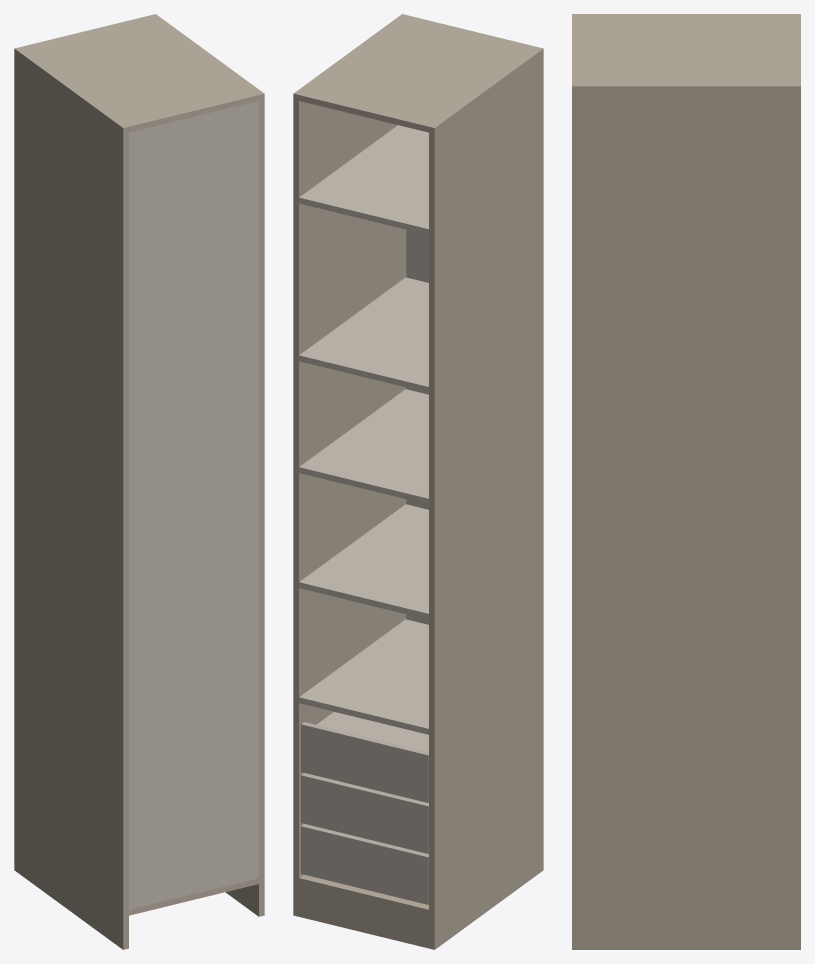
3 views of the same model, side by side, from view 1: azimuth 30°, elevation 25°; view 2: azimuth 150°, elevation 25°; view 3: azimuth 270°, elevation 25° (orthographic). The views are drawn at different scales.
Parts seen in each view (by area): view 1: 004_ARKALIK, 000_GOVDE_SOL, 002_GOVDE_UST, 001_GOVDE_SAG, 003_GOVDE_ALT; view 2: 000_GOVDE_SOL, 001_GOVDE_SAG, 002_GOVDE_UST, 008_RAF_3, 007_RAF_2, 006_RAF_1, 009_RAF_4, 010_RAF_5, 011_CEKMECE_ON_1, 013_CEKMECE_ON_2, 015_CEKMECE_ON_3, 005_BAZA (+3 smaller); view 3: 001_GOVDE_SAG, 002_GOVDE_UST, 000_GOVDE_SOL.
Part boxes in pixels (<box>): 004_ARKALIK: <box>129,101,258,909</box>; 000_GOVDE_SOL: <box>14,47,128,949</box>; 002_GOVDE_UST: <box>20,15,258,132</box>; 001_GOVDE_SAG: <box>150,14,264,916</box>; 003_GOVDE_ALT: <box>129,878,258,915</box>; 000_GOVDE_SOL: <box>429,47,543,949</box>; 001_GOVDE_SAG: <box>293,14,407,916</box>; 002_GOVDE_UST: <box>299,15,537,132</box>; 008_RAF_3: <box>299,389,428,504</box>; 007_RAF_2: <box>299,504,428,619</box>; 006_RAF_1: <box>299,619,428,734</box>; 009_RAF_4: <box>299,277,428,392</box>; 010_RAF_5: <box>299,125,428,234</box>; 011_CEKMECE_ON_1: <box>301,824,428,904</box>; 013_CEKMECE_ON_2: <box>301,773,428,853</box>; 015_CEKMECE_ON_3: <box>301,722,428,802</box>; 005_BAZA: <box>299,884,428,948</box>; 001_GOVDE_SAG: <box>572,83,800,949</box>; 002_GOVDE_UST: <box>572,17,800,83</box>; 000_GOVDE_SOL: <box>572,14,800,16</box>.
Bounding box in the file's own units: 0.45 × 2.5 × 0.6.
